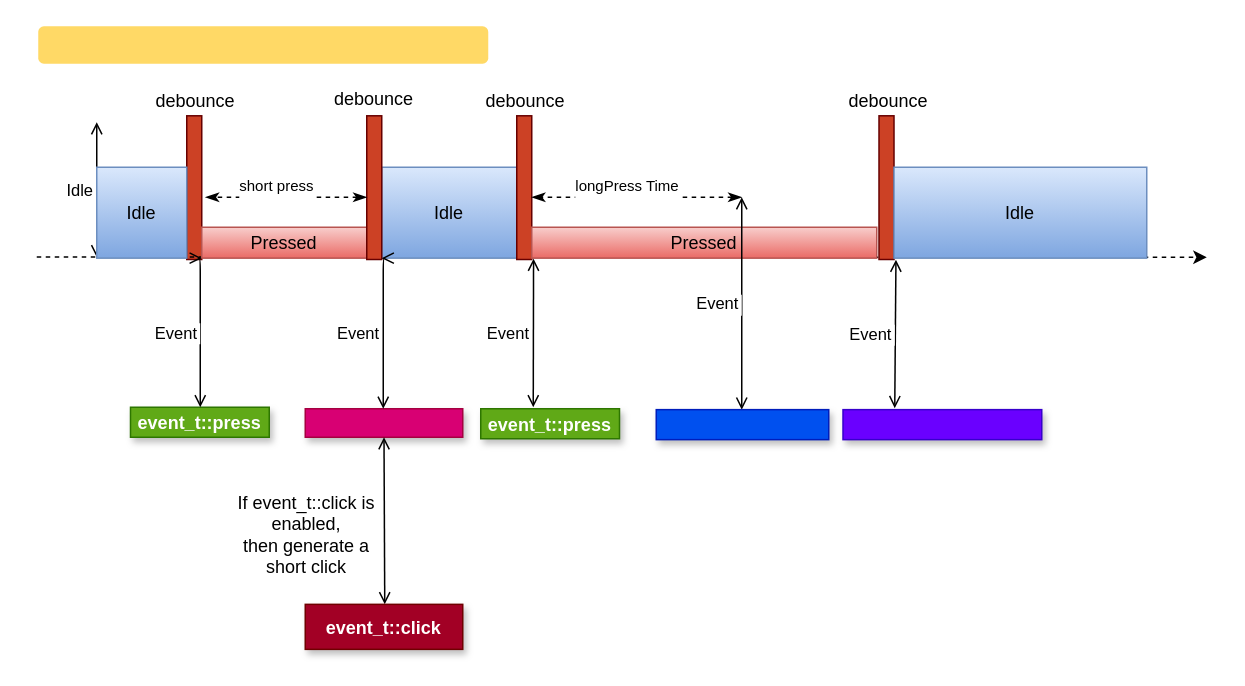
This 1245x686 diagram has some shape labels left out. The centre of each missing label's shape, as x and y in pixels:
event_t::longPress: (743,426)
event_t::longRelease: (943,426)
event_t::release: (385,424)
Short / Long press operation: (263,44)
